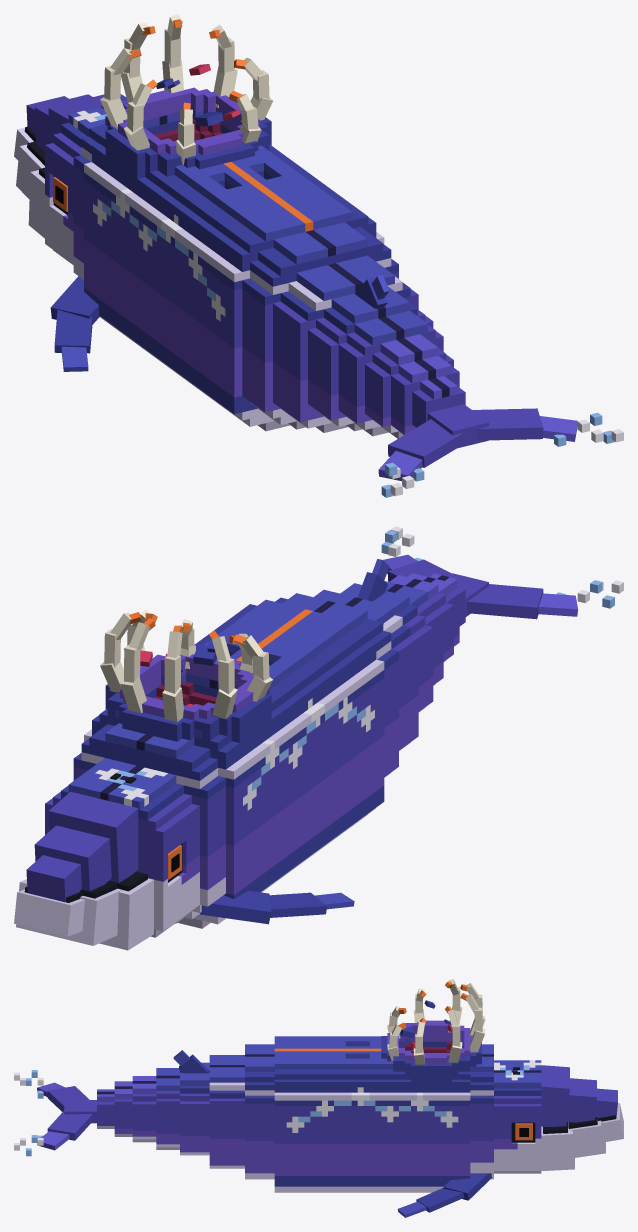
The model's file is TheHollow.obj.
3 views of the same model, one above another, from view 1: azimuth 30°, elevation 25°; view 2: azimuth 150°, elevation 25°; view 3: azimuth 270°, elevation 25° (orthographic). The views are drawn at different scales.
Visible parts, largest first — view 1: Chest, T1, Head, T2, Fluke, T3, T4, T5, FlipperL, T6, T7, Dust (+1 smaller); view 2: Chest, Head, Fluke, T1, T2, FlipperL, T3, T4, T5, Dust, T6, Drift; view 3: Chest, Head, T2, T1, T3, Fluke, T4, T5, FlipperR, T6, T7, Dust.
Part boxes in pixels (box(x1,y1,x2,y2)): Chest: box(73, 14, 384, 431); T1: box(242, 222, 398, 429); Head: box(14, 94, 127, 264); T2: box(273, 255, 418, 432); Fluke: box(378, 404, 577, 481); T3: box(308, 275, 433, 431); T4: box(338, 310, 443, 436); T5: box(365, 334, 453, 438); FlipperL: box(50, 276, 99, 371); T6: box(391, 356, 459, 434); T7: box(412, 376, 465, 427); Dust: box(381, 412, 623, 497); Chest: box(73, 599, 384, 928); Head: box(14, 758, 199, 950); Fluke: box(383, 554, 577, 619); T1: box(275, 593, 398, 777); T2: box(314, 589, 418, 750); FlipperL: box(200, 890, 354, 924); T3: box(340, 559, 433, 712); T4: box(384, 581, 443, 685); T5: box(389, 575, 453, 661); Dust: box(381, 526, 623, 608); T6: box(407, 573, 459, 646); Drift: box(140, 638, 216, 672); Chest: box(274, 979, 493, 1192); Head: box(494, 1060, 623, 1173); T2: box(209, 1055, 244, 1168); T1: box(245, 1044, 274, 1179); T3: box(173, 1050, 209, 1155); Fluke: box(37, 1082, 96, 1150); T4: box(156, 1068, 179, 1149); T5: box(132, 1076, 156, 1142); FlipperR: box(397, 1173, 491, 1217); T6: box(114, 1081, 132, 1136); T7: box(97, 1089, 114, 1128); Dust: box(14, 1070, 43, 1156).
Bounding box in the file's own units: 18.43 × 17.67 × 51.47.
Materials: 1 (1 with a texture image).
